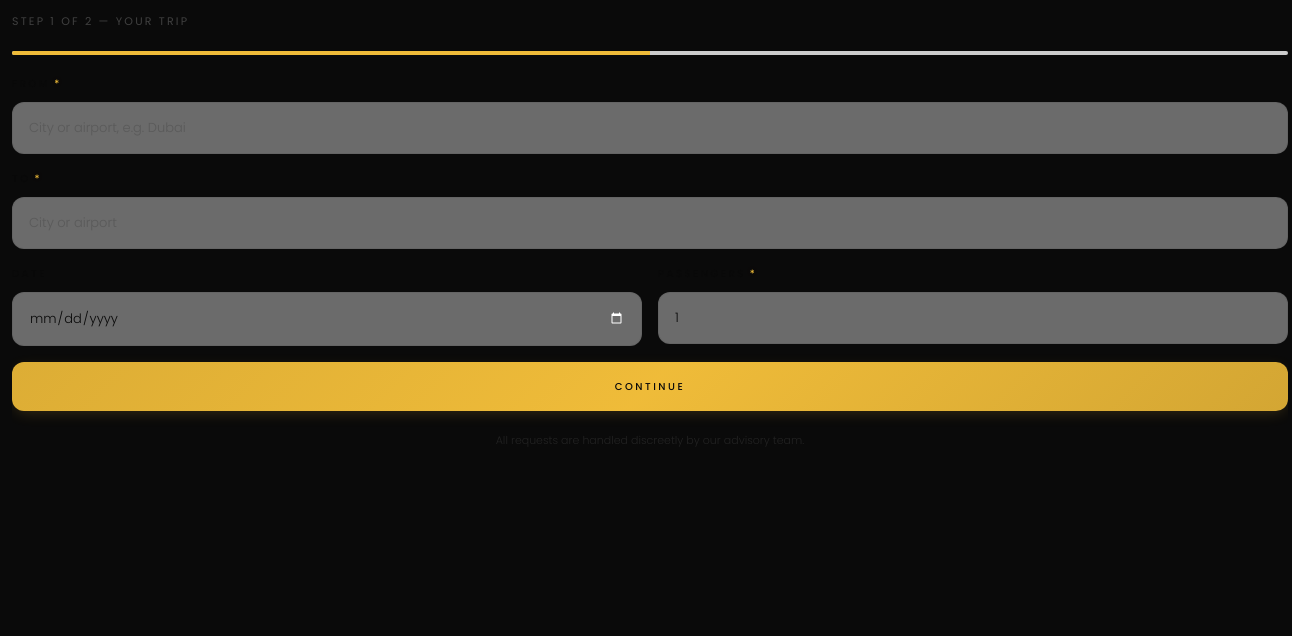
Scenario: TwoStepQuoteForm › validates email on step 2 and does not submit
Type "Dubai" into the field labelled "From*" at (650, 128), box [12, 102, 1288, 154]
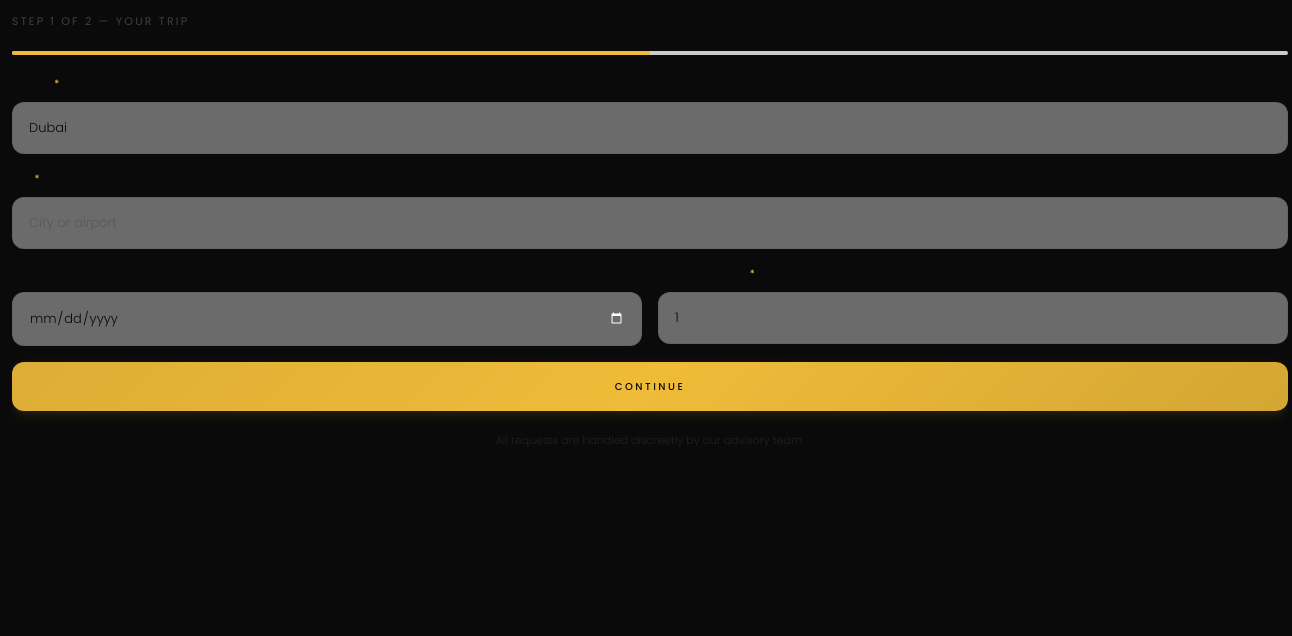
Type "London" into the field labelled "To*" at (650, 223), box [12, 197, 1288, 249]
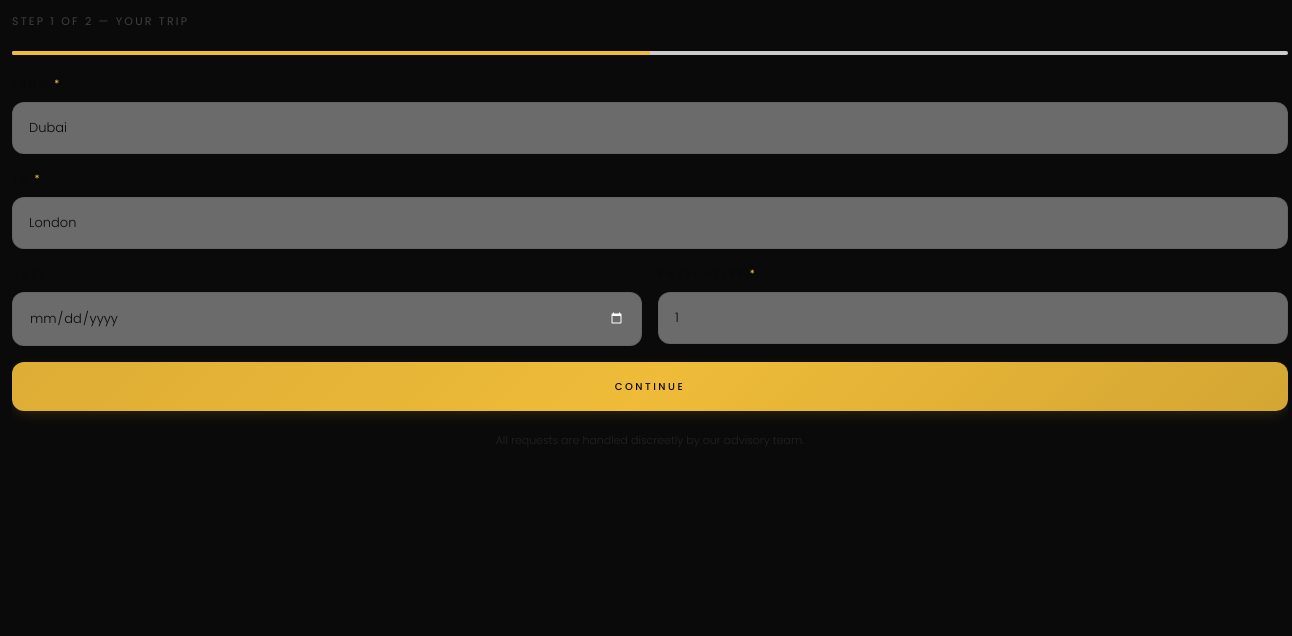
Click the button "Continue" at (650, 386), box [12, 362, 1288, 411]
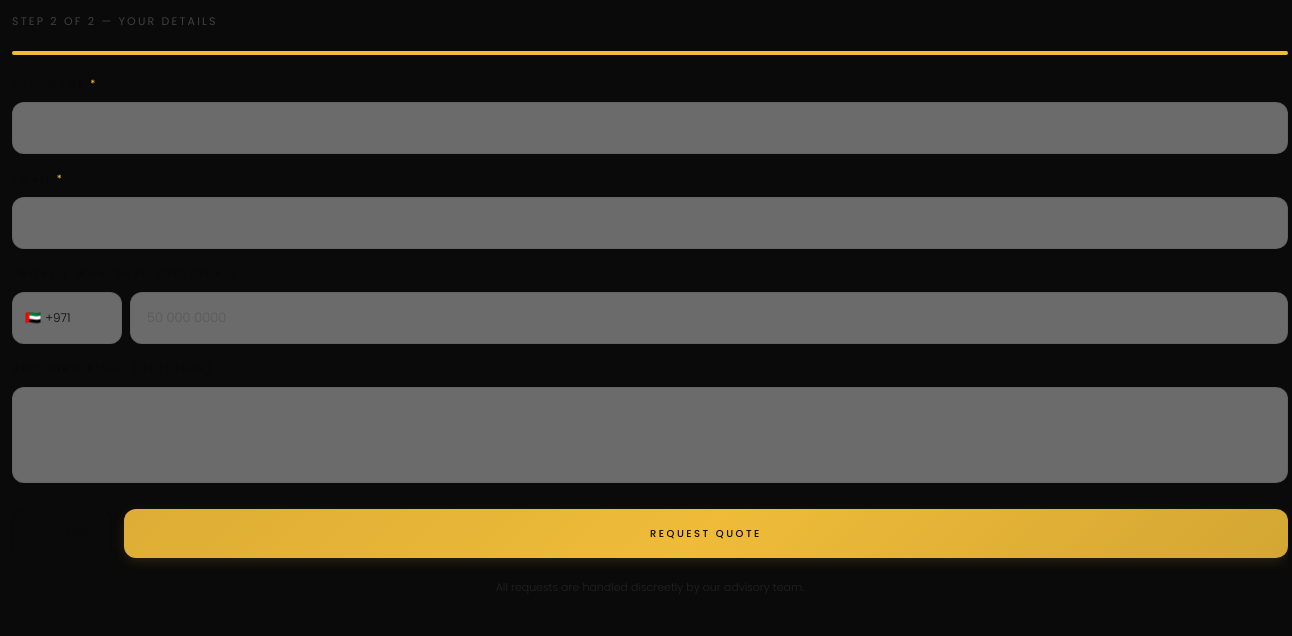
Type "Test" into the field labelled "Full name*" at (650, 128), box [12, 102, 1288, 154]
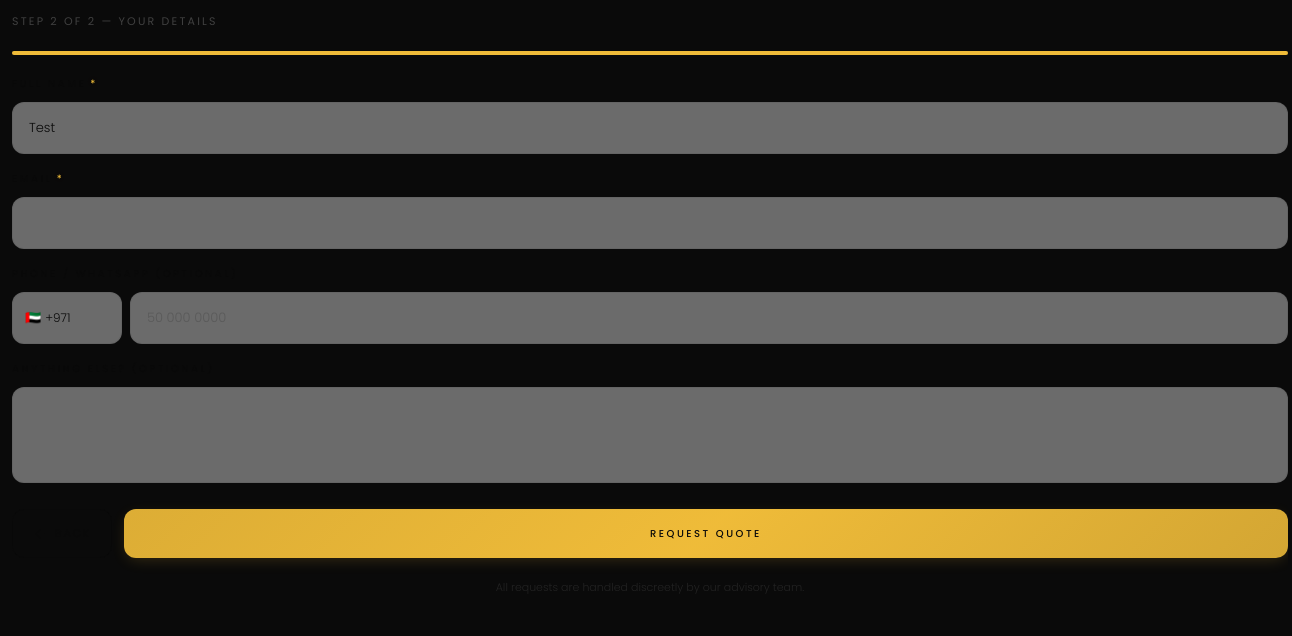
Type "bad" into the field labelled "Email*" at (650, 223), box [12, 197, 1288, 249]
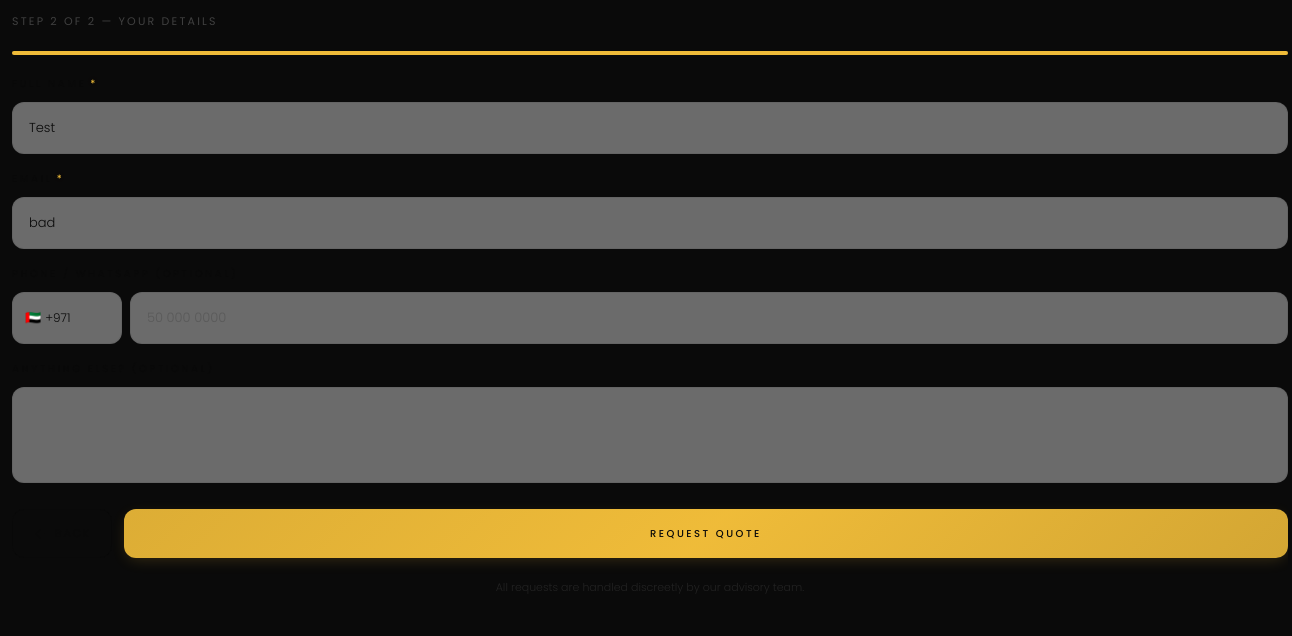
Click the button "Request quote" at (706, 534), box [124, 509, 1288, 558]
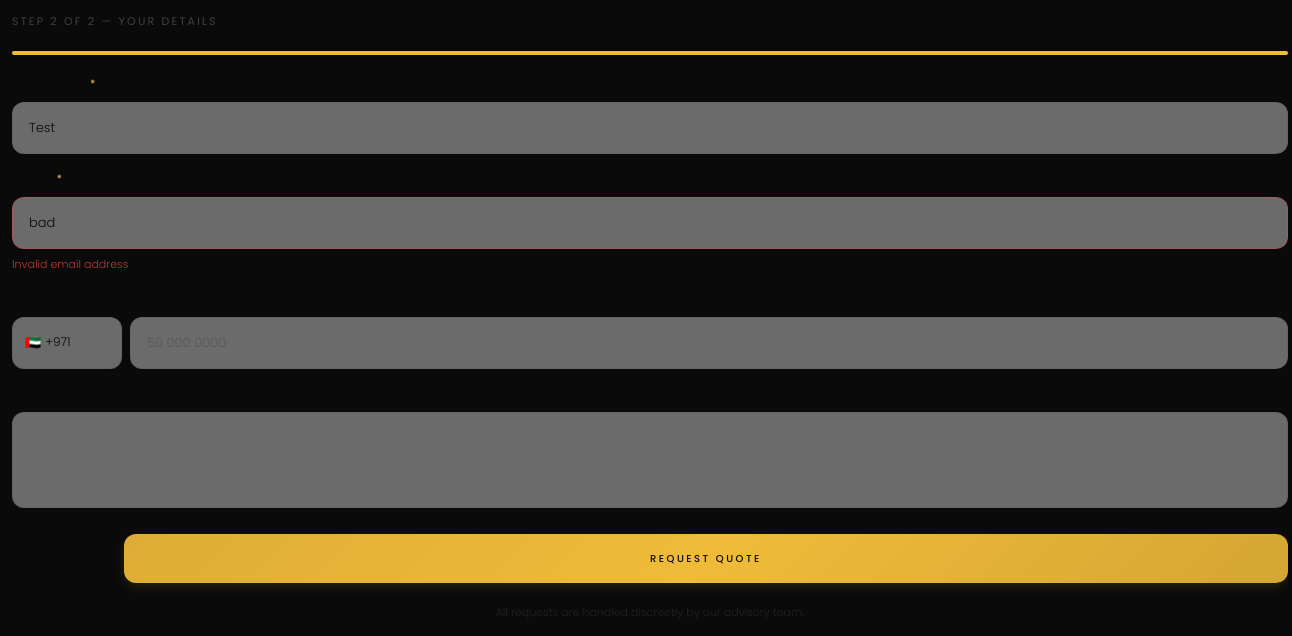
Check: the text "Invalid email address" is shown, box [12, 256, 128, 272]
